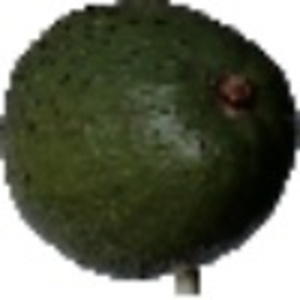abacate: (1, 1, 298, 278)
